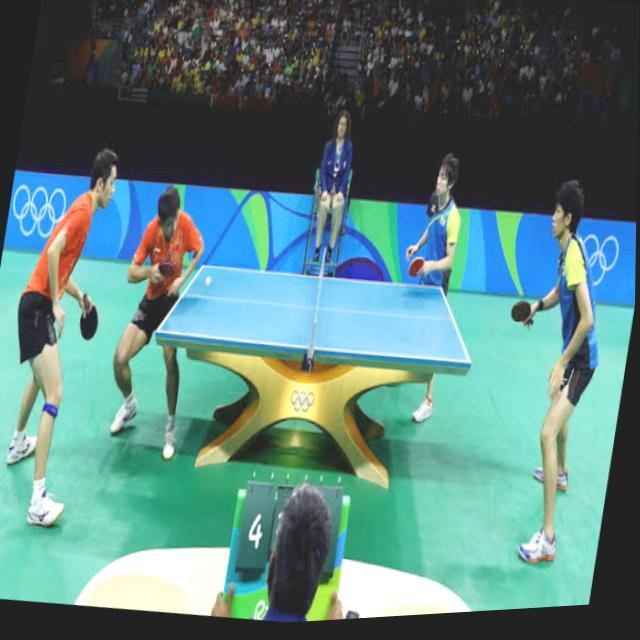TT Net: (306, 245, 328, 361)
TT Racket: (75, 297, 100, 345), (507, 294, 536, 332), (156, 255, 177, 287), (405, 251, 427, 281)
TT Table: (157, 264, 471, 361)
